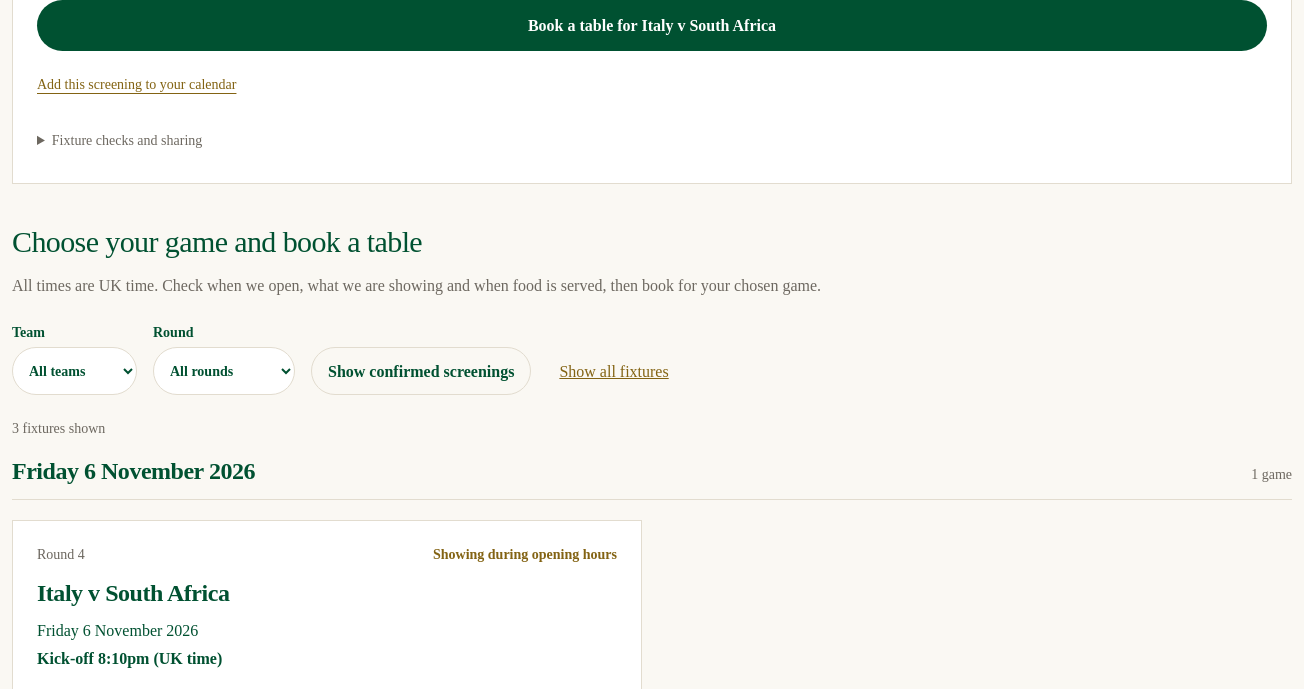
Test: removes empty date groups when filtering and restores them on reset
This screenshot has width=1304, height=689.
(page scrolled)
Select "England" in the dropdown named "Filter by team". click: (74, 371)
box: [12, 347, 137, 395]
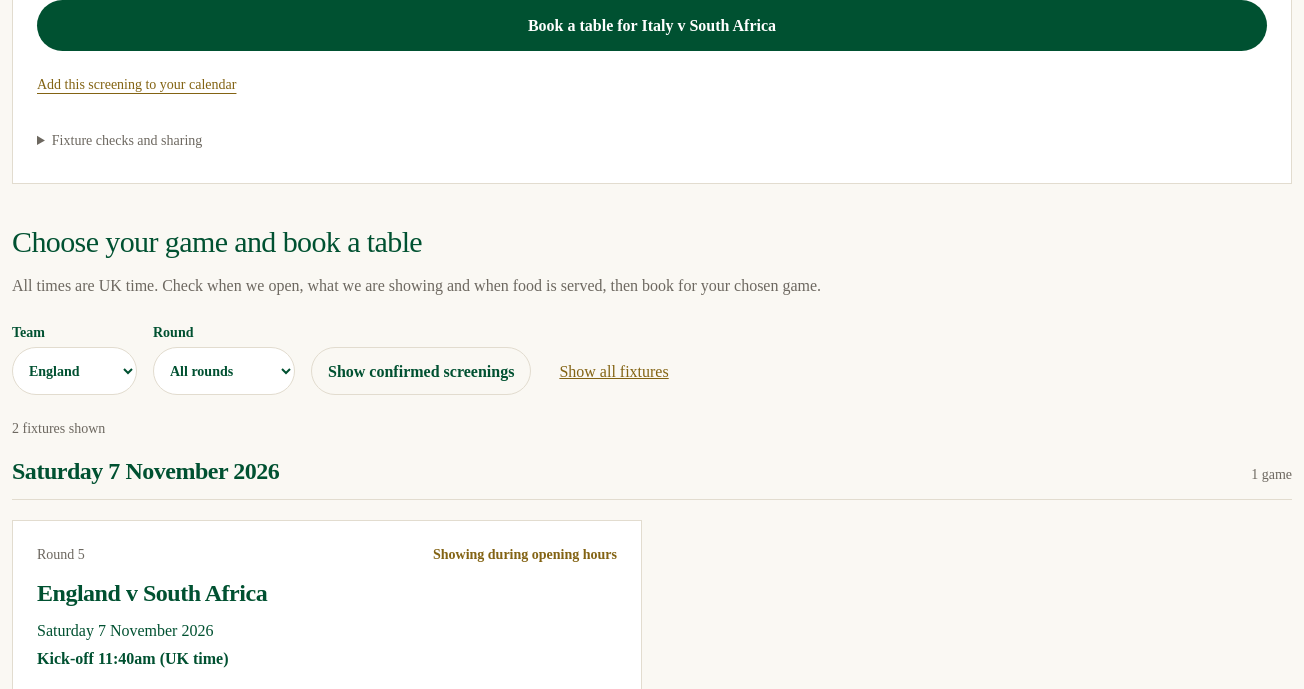
Select "Round 5" in the dropdown named "Filter by round". click: (224, 371)
box: [153, 347, 295, 395]
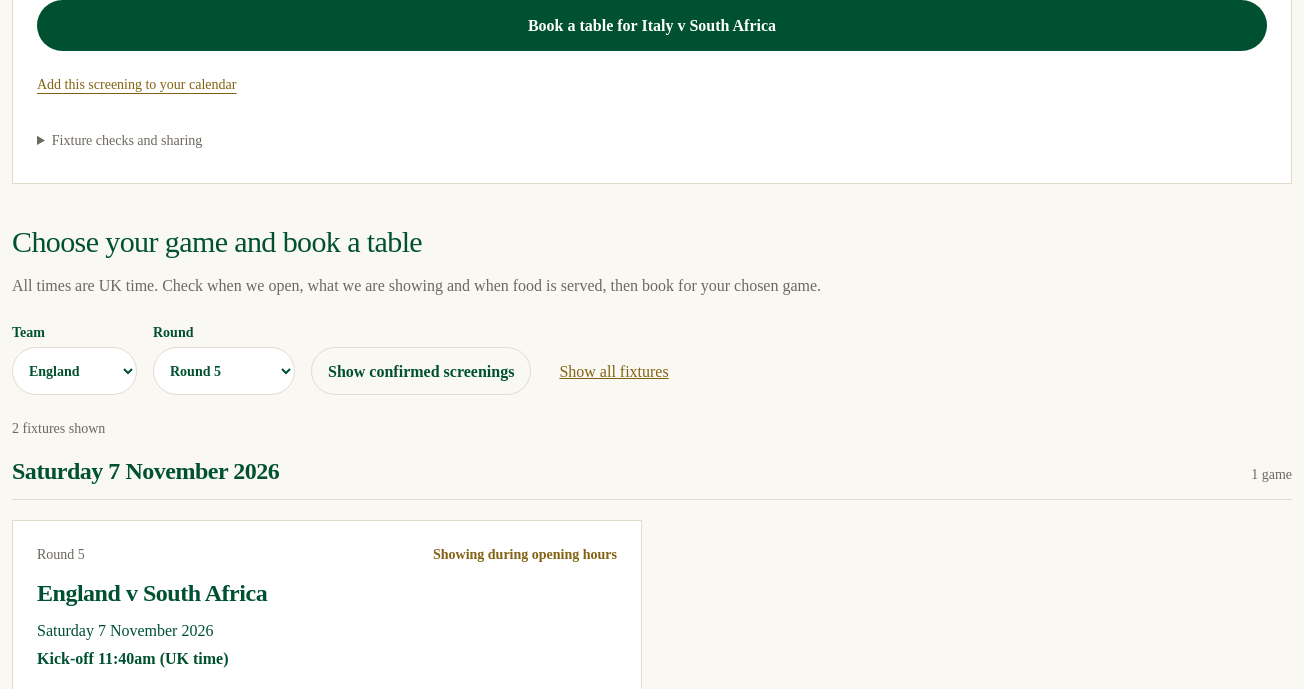
Click the button "Show confirmed screenings". click: (421, 371)
box: [311, 347, 531, 395]
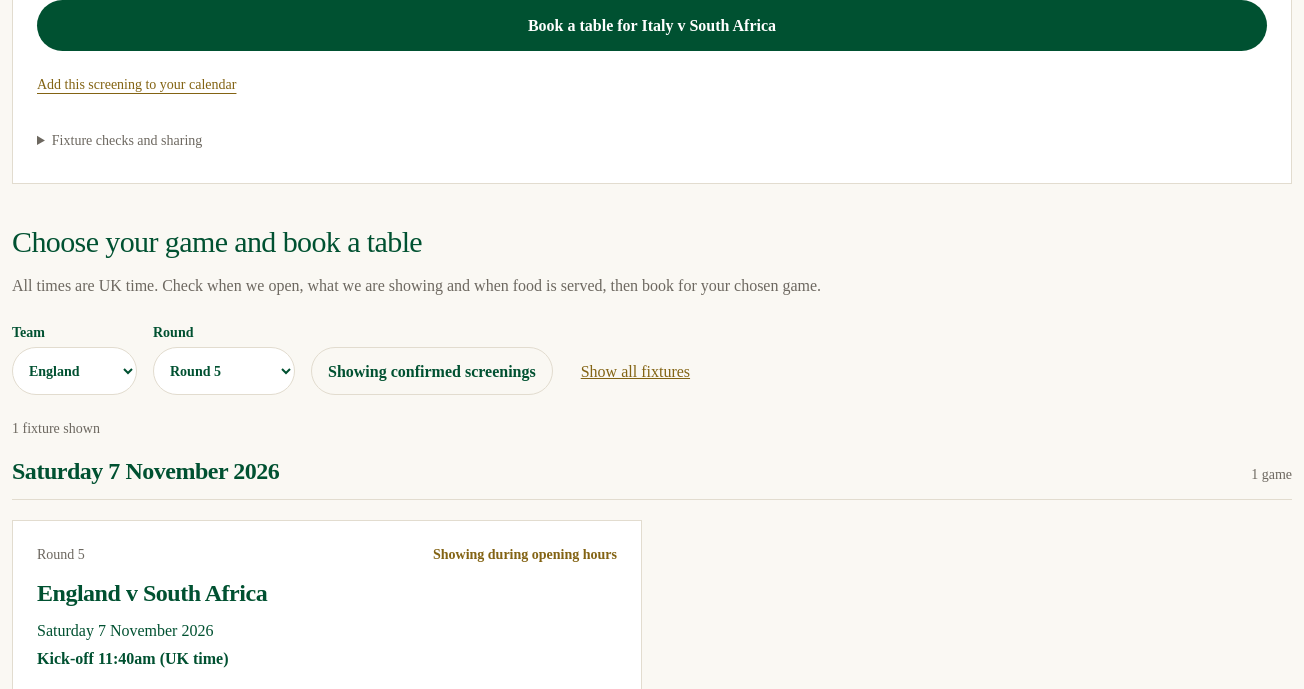
Expected: the element "Friday 6 November 2026" is not shown
Expected: the text "1 fixture shown" is shown, [12, 421, 100, 436]
Click the button "Show all fixtures". click: (635, 371)
box: [569, 347, 702, 395]
(page scrolled)
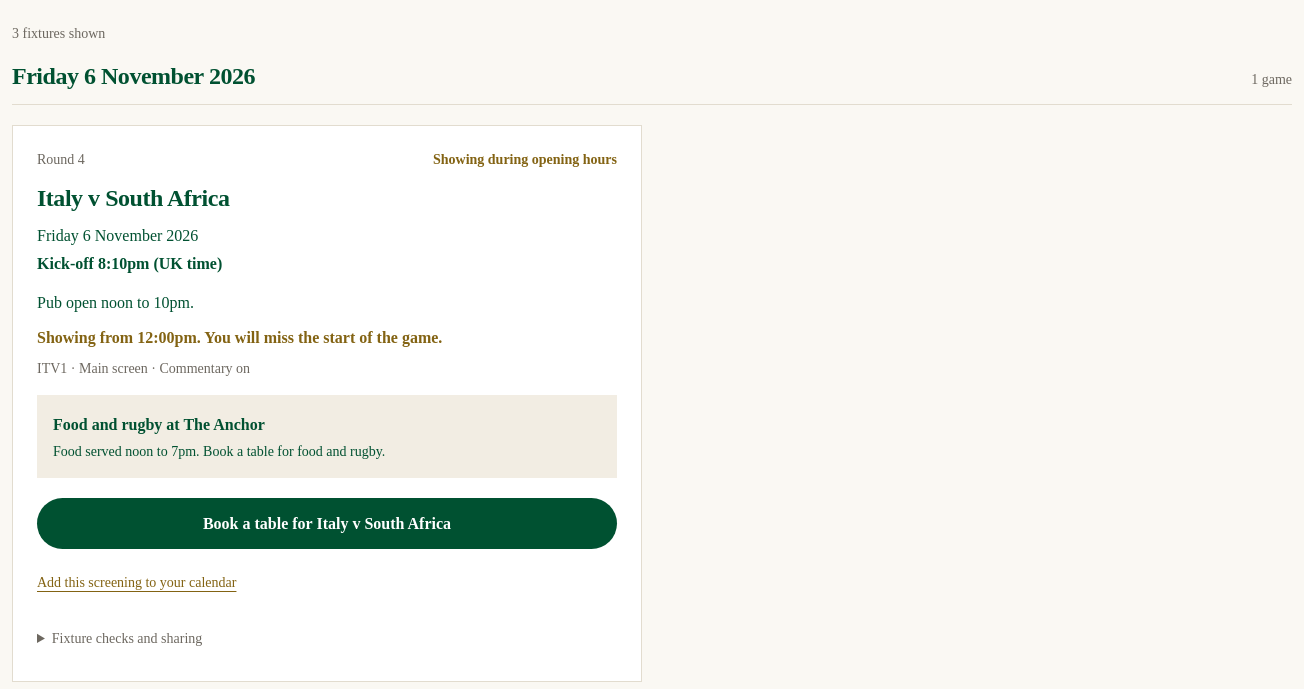
Expected: the text "3 fixtures shown" is shown, [12, 26, 105, 41]
Expected: the element "Friday 6 November 2026" is shown
